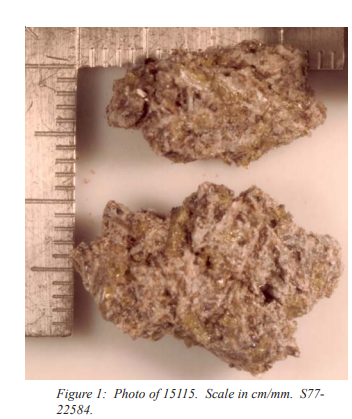Basalt: (104, 208, 322, 352), (114, 53, 330, 156)
